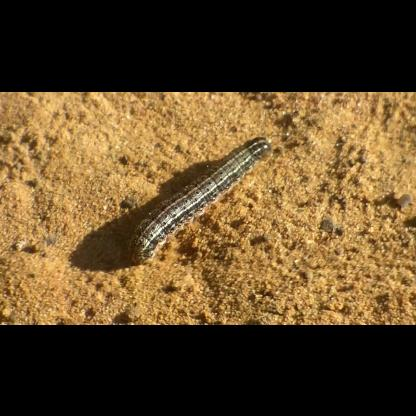Fall Armyworm Larvae: (122, 132, 274, 268)
